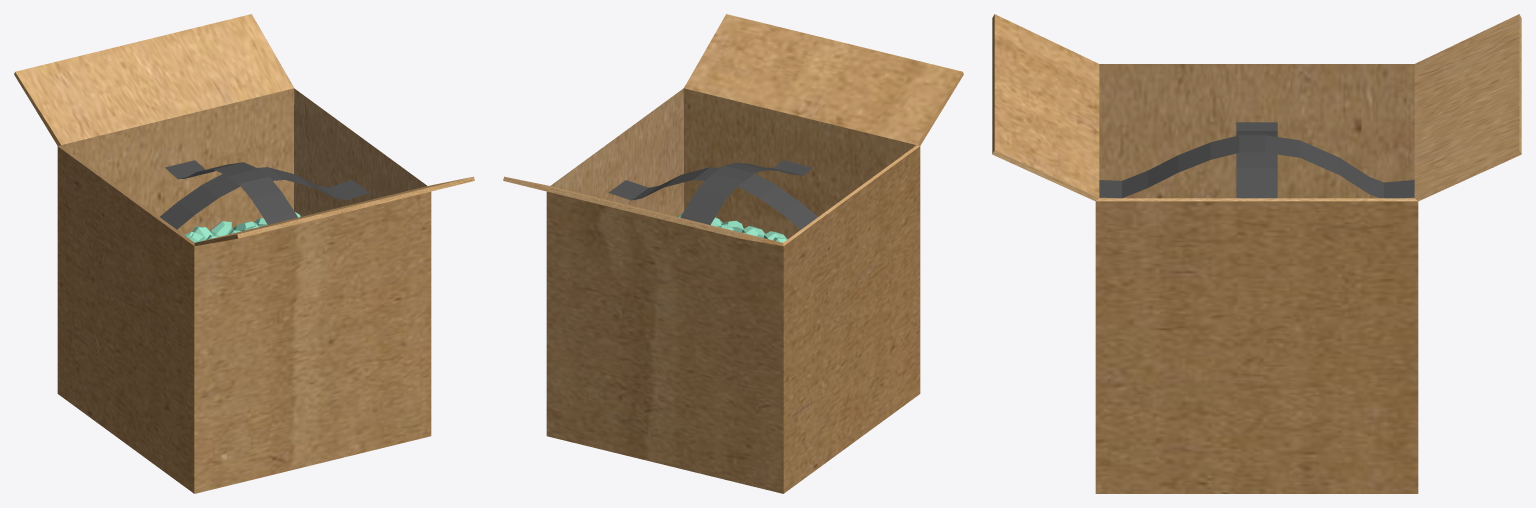
The model's file is AngelsDustCardboardBox.glb.
The picture shows the model from 3 angles, left to right: view 1: azimuth 30°, elevation 25°; view 2: azimuth 150°, elevation 25°; view 3: azimuth 270°, elevation 25°; orthographic projection. The views are drawn at different scales.
Parts seen in each view (by area): view 1: Box, DuctTape, Styrofoam; view 2: Box, DuctTape, Styrofoam; view 3: Box, DuctTape.
Boxes of the visible parts, x1,y1,x2,y2 form: Box: (14, 14, 474, 493); DuctTape: (160, 160, 369, 229); Styrofoam: (184, 212, 300, 242); Box: (503, 14, 963, 493); DuctTape: (608, 160, 817, 229); Styrofoam: (678, 214, 787, 242); Box: (992, 14, 1521, 493); DuctTape: (1099, 122, 1414, 198).
Bounding box in the file's own units: 1.25 × 1.47 × 2.05.
3 materials, 1 textured.
